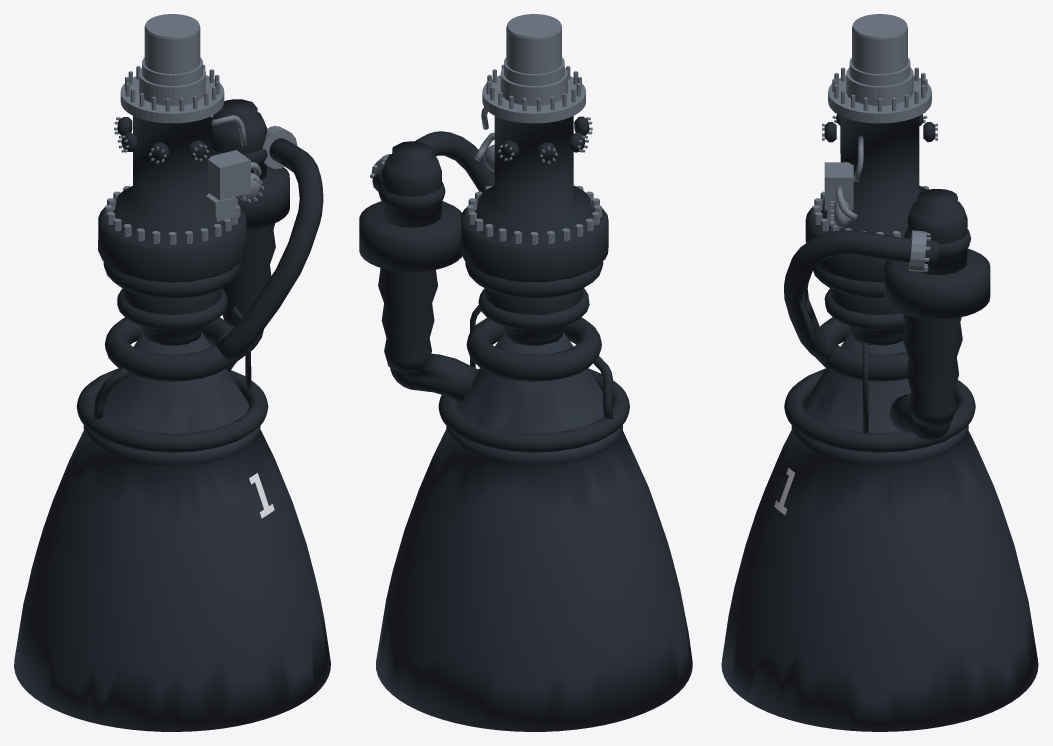
File: raptor3.glb
3 renders of one model, left to right at view 1: azimuth 30°, elevation 25°; view 2: azimuth 150°, elevation 25°; view 3: azimuth 270°, elevation 25°, orthographic.
Parts seen in each view (by area): view 1: raptor3_nozzle, raptor3_chamber, raptor3_disc_bolts; view 2: raptor3_nozzle, raptor3_chamber, raptor3_disc_bolts; view 3: raptor3_nozzle, raptor3_chamber, raptor3_disc_bolts.
Part boxes in pixels (x1,y1,x2,y2): raptor3_nozzle: (14, 331, 330, 731); raptor3_chamber: (76, 99, 323, 452); raptor3_disc_bolts: (104, 14, 297, 244); raptor3_nozzle: (376, 332, 692, 731); raptor3_chamber: (359, 116, 629, 452); raptor3_disc_bolts: (370, 14, 601, 244); raptor3_nozzle: (721, 332, 1038, 731); raptor3_chamber: (784, 114, 990, 452); raptor3_disc_bolts: (812, 14, 937, 271).
Size of the model in its own units: 1.34 by 2.94 by 1.32.
